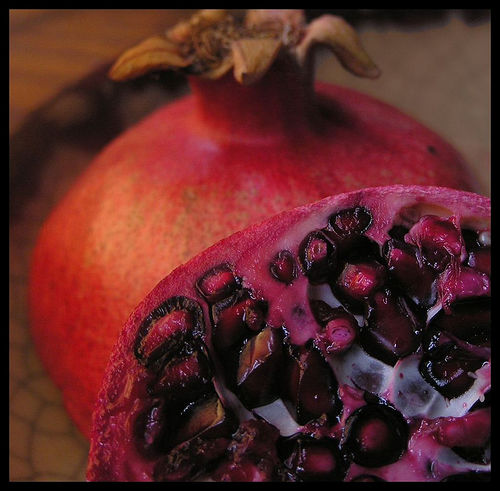pomogranate: (31, 11, 477, 444), (85, 185, 493, 486)
